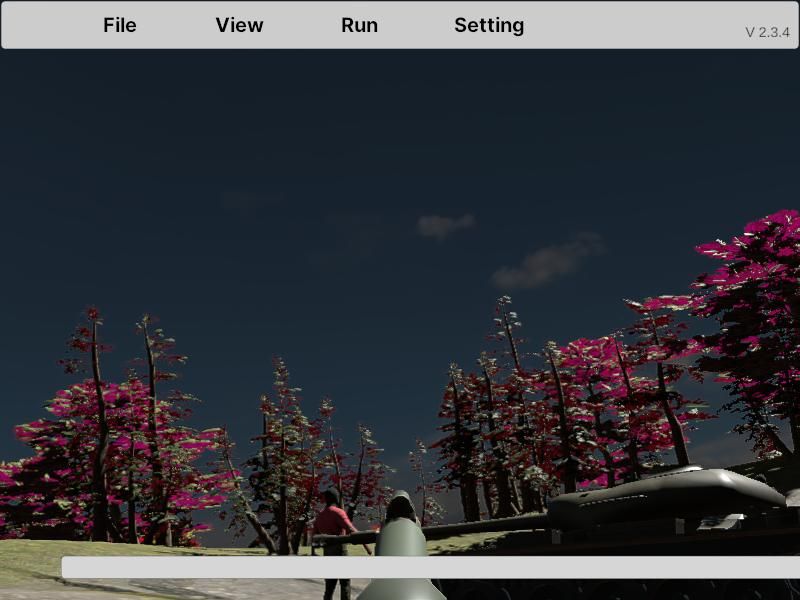Human: (311, 487, 368, 599)
Tank: (308, 465, 800, 576)
